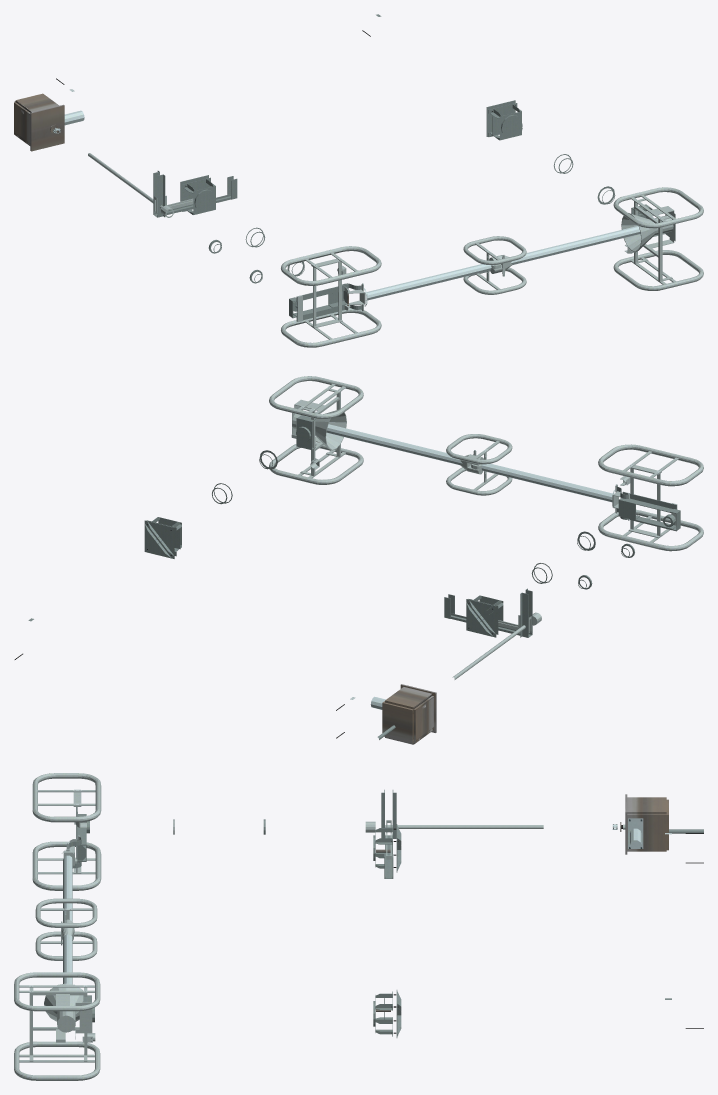
The model's file is glkg-11m00000000620184b-geode.glb.
3 views of the same model, one above another, from view 1: azimuth 30°, elevation 25°; view 2: azimuth 150°, elevation 25°; view 3: azimuth 270°, elevation 25° (orthographic). The views are drawn at different scales.
Visible parts, largest first — view 1: Node; view 2: Node; view 3: Node.
Boxes of the visible parts, <box> form: Node: <box>14,14,703,347</box>; Node: <box>14,376,703,744</box>; Node: <box>14,773,703,1080</box>.
Bounding box in the file's own units: 7.06 × 1.41 × 9.42.
9 materials, 9 textured.
